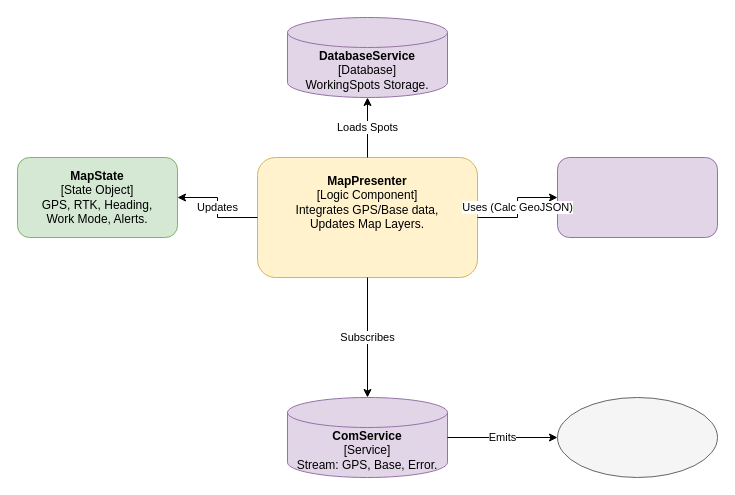
This 735x495 diagram has some shape labels left out. Here are the shapes that lost their labels. From the top down, the centre of each, then its label:
At pixel 637 197: "CoordinateService [Service] Geometry Calculations.".
At pixel 637 437: "GPSLoc / Base [Model] Raw Data Models.".
